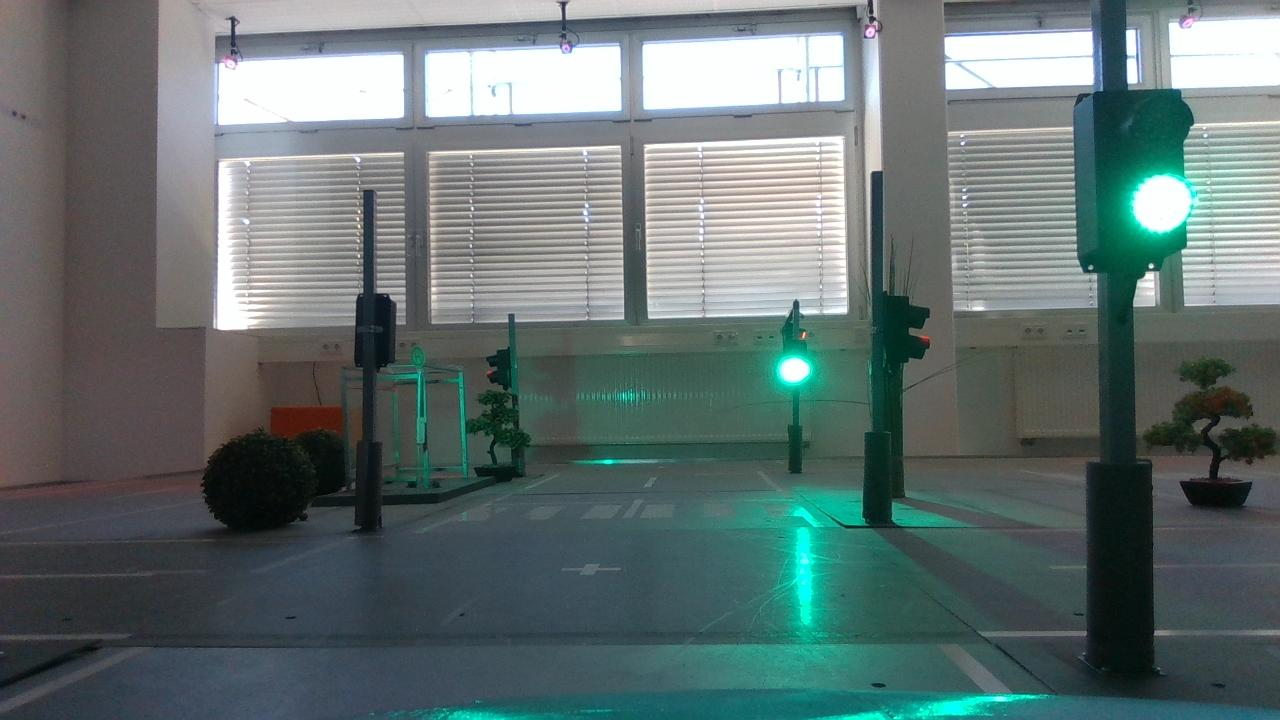traffic_light_green: (1050, 67, 1201, 288)
